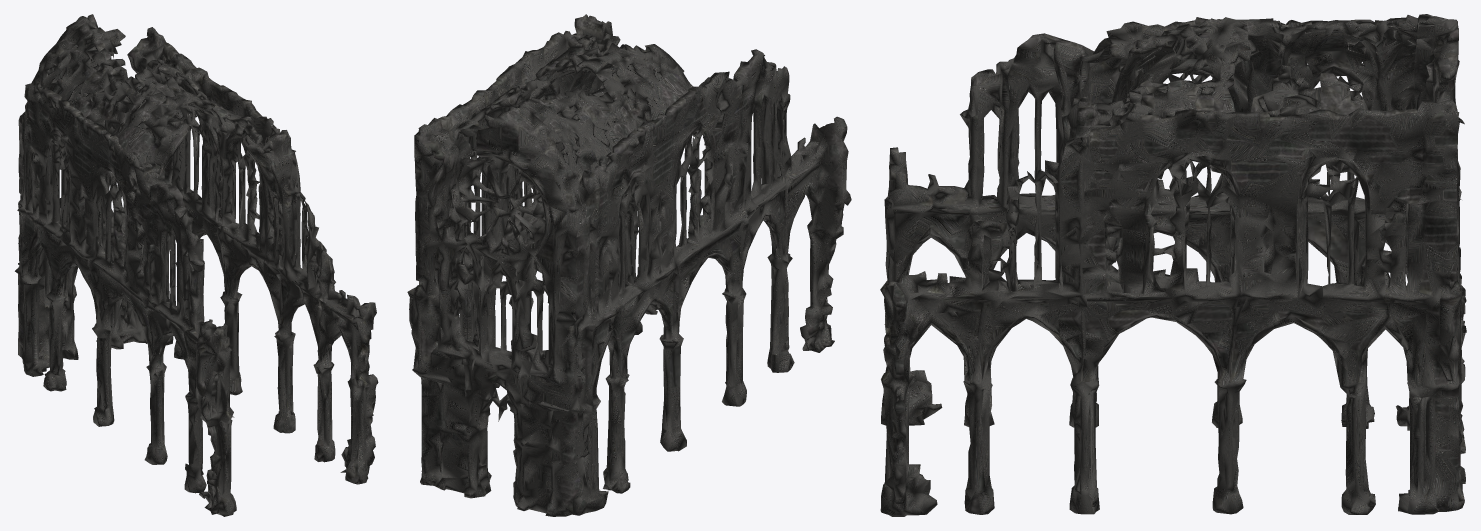
Rendered from ruined-nave.glb.
3 renders of one model, left to right at view 1: azimuth 30°, elevation 25°; view 2: azimuth 150°, elevation 25°; view 3: azimuth 270°, elevation 25°, orthographic. The views are drawn at different scales.
Size of the model in its own units: 0.9177 by 1.6 by 1.9.
1 material, 1 textured.
